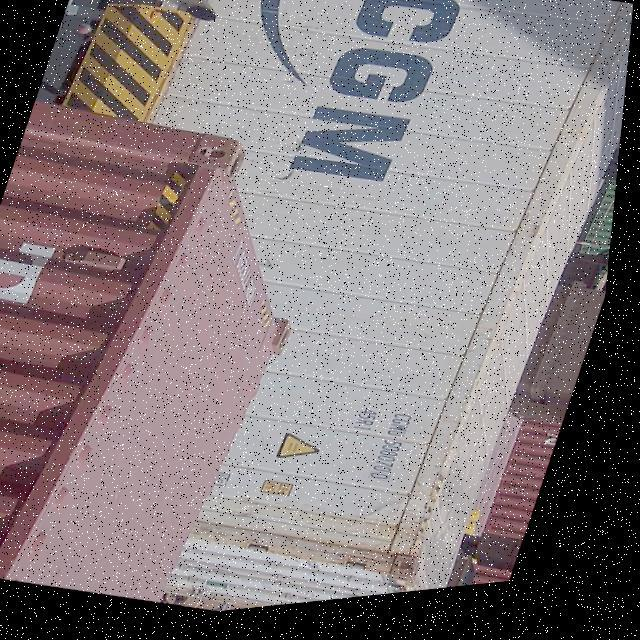rust: (225, 492, 457, 613)
